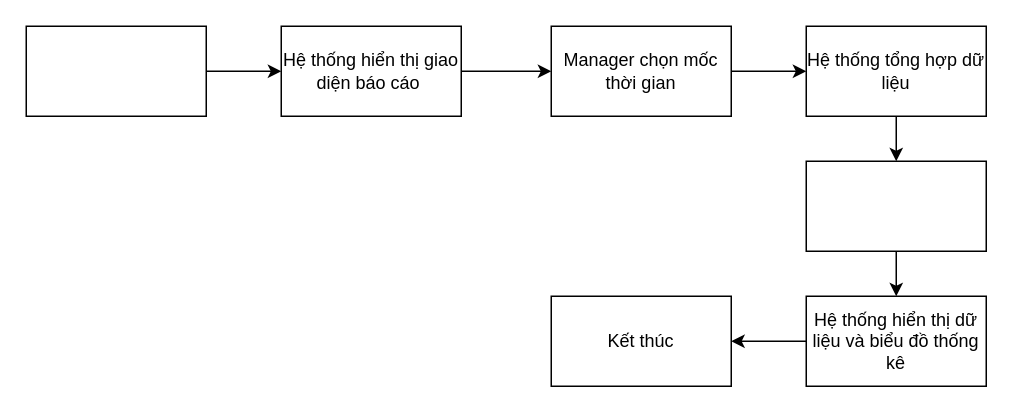
The diagram is 1013 pixels wide and 413 high, and some of its shapes have lost their labels. The centre of each missing label's shape, as x and y in pixels:
"Manager lựa chọn loại báo cáo" belongs at [895,205].
"Manager truy cập báo cáo" belongs at [115,70].
